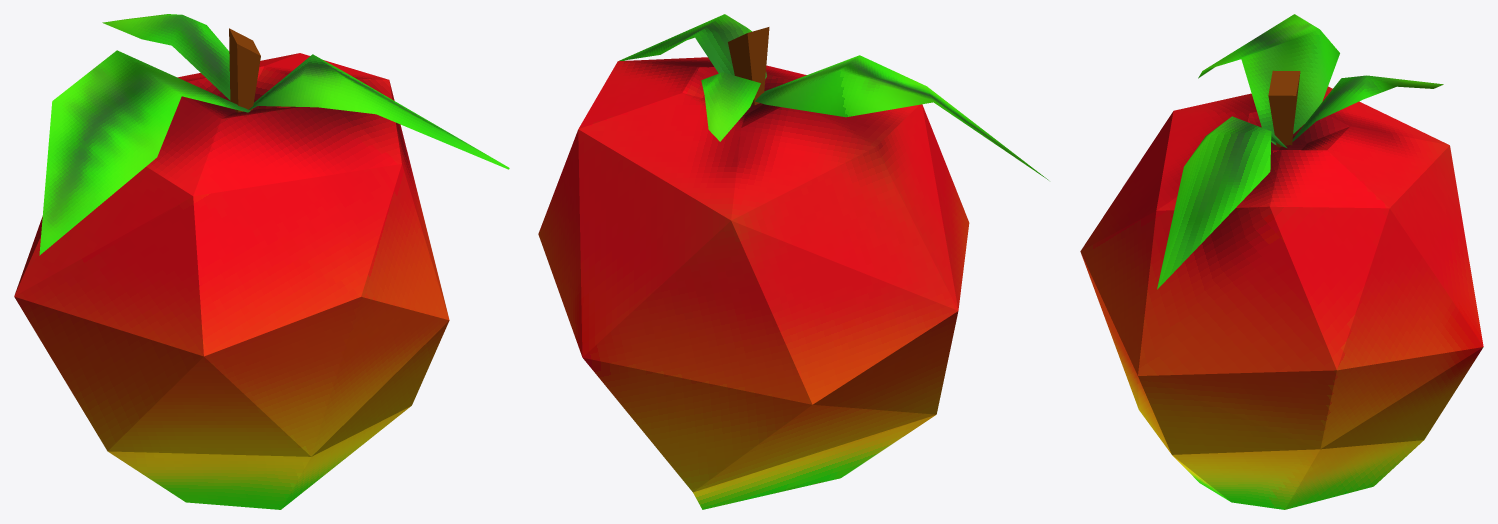
Rendered from wumpa_fruit.glb.
The picture shows the model from 3 angles, left to right: view 1: azimuth 30°, elevation 25°; view 2: azimuth 150°, elevation 25°; view 3: azimuth 270°, elevation 25°; orthographic projection. The views are drawn at different scales.
Parts seen in each view (by area): view 1: Plane.005; view 2: Plane.005; view 3: Plane.005.
Boxes of the visible parts, bbox=[...] form: Plane.005: bbox=[14, 14, 509, 509]; Plane.005: bbox=[538, 14, 1048, 509]; Plane.005: bbox=[1080, 14, 1483, 509].
Bounding box in the file's own units: 6.07 × 5.74 × 5.06.
Materials: 3 (2 with a texture image).
